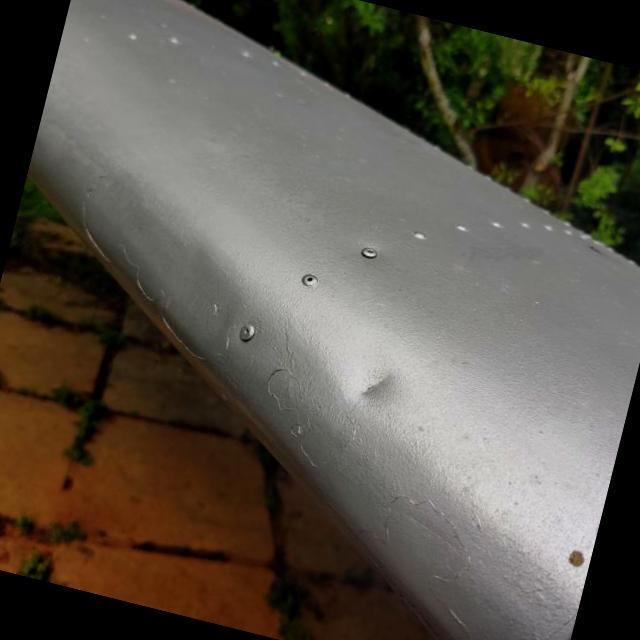dent: (320, 328, 438, 444)
